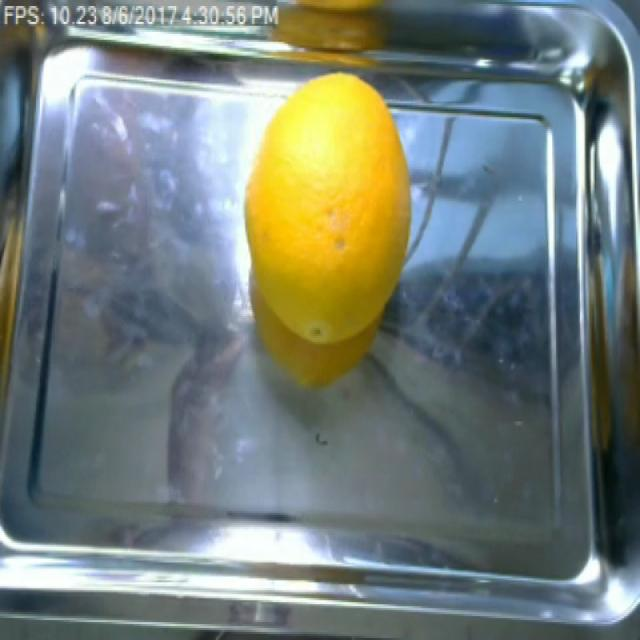Fruit: (229, 64, 416, 388), (258, 0, 418, 52)
